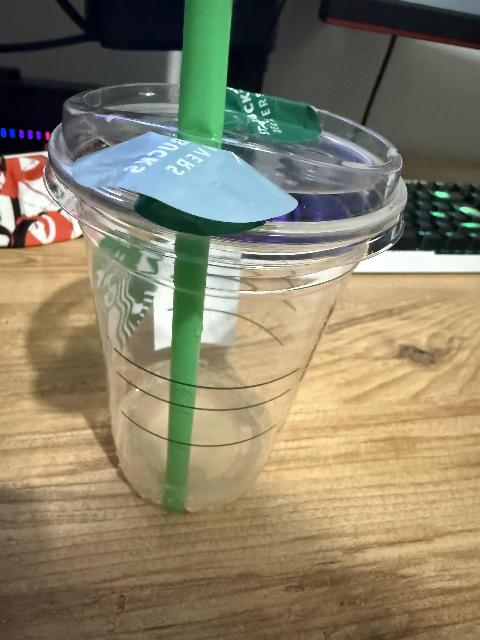Plastik: (51, 10, 397, 514)
